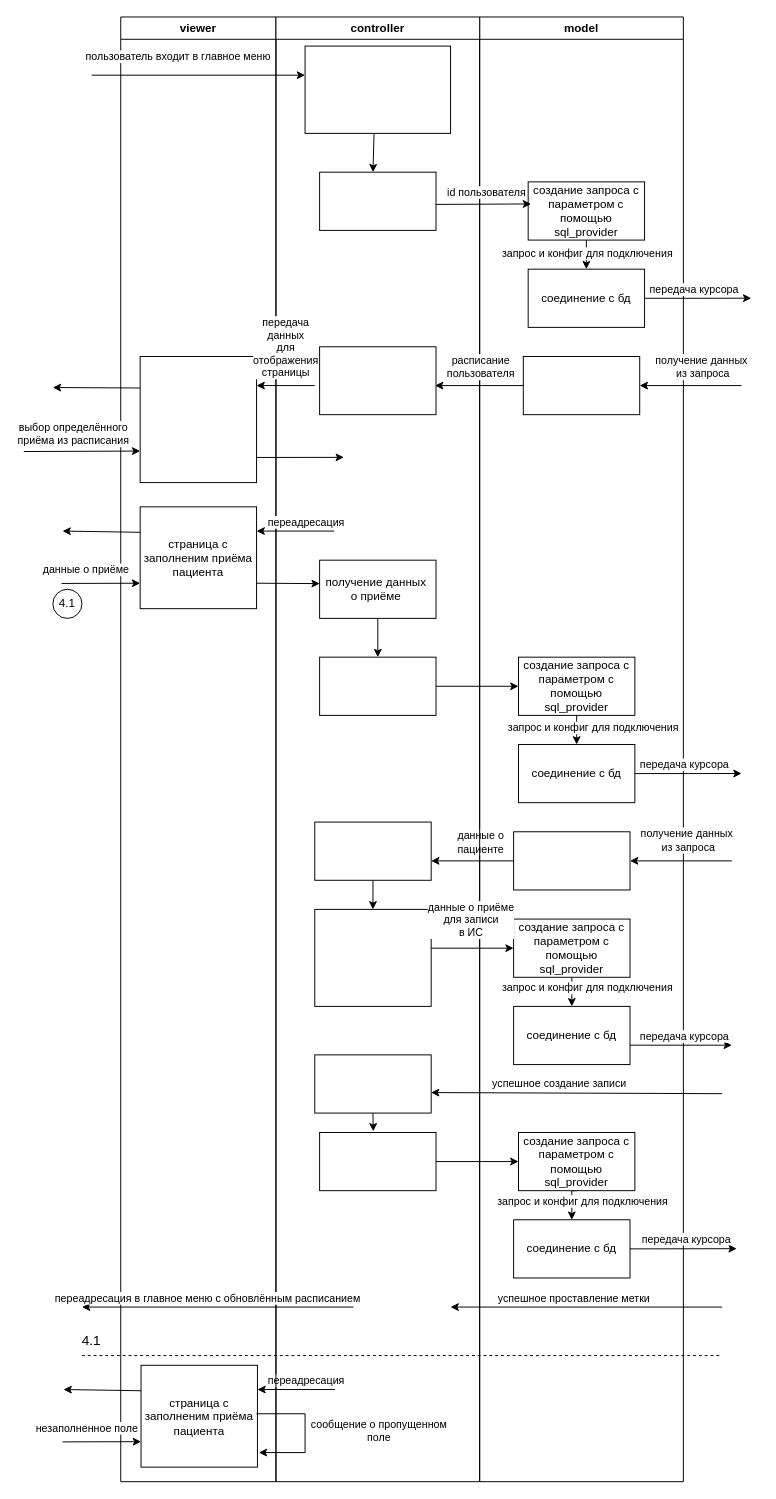
The diagram is 776 pixels wide and 1499 high, and some of its shapes have lost their labels. The shapes that lost their labels are listed below. From the top down, each one's centre as x and y in pixels, then its label:
At point (377, 89): "вынимание личных данных пользователя из сессии".
At point (377, 200): "получение расписания пользователя на сегодняшний день".
At point (377, 380): "сохранение расписания пользователя в отельную переменную".
At point (198, 419): "страница с главным меню с расписанием пользователя".
At point (377, 685): "поиск данных о пациенте".
At point (372, 850): "сохранение данных в отдельную переменную".
At point (372, 957): "создание записи о приёме".
At point (377, 1161): "проставление отметки о проведении приема".
